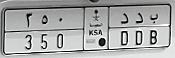0: (55, 17, 65, 50)
3: (24, 11, 34, 51)
5: (39, 14, 49, 50)
B: (148, 13, 159, 45)
D: (119, 12, 129, 46), (134, 12, 144, 45)
